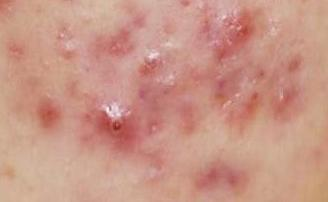papular: (215, 12, 270, 48), (37, 88, 59, 134)
purulent: (98, 93, 135, 141)
